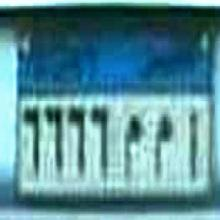6: (91, 101, 112, 172), (45, 101, 66, 169), (23, 105, 41, 177), (69, 103, 87, 172)
alif: (181, 104, 201, 177)
meem: (117, 109, 144, 176), (151, 111, 174, 176)
